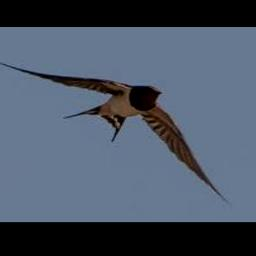Swallow: (0, 62, 232, 206)
